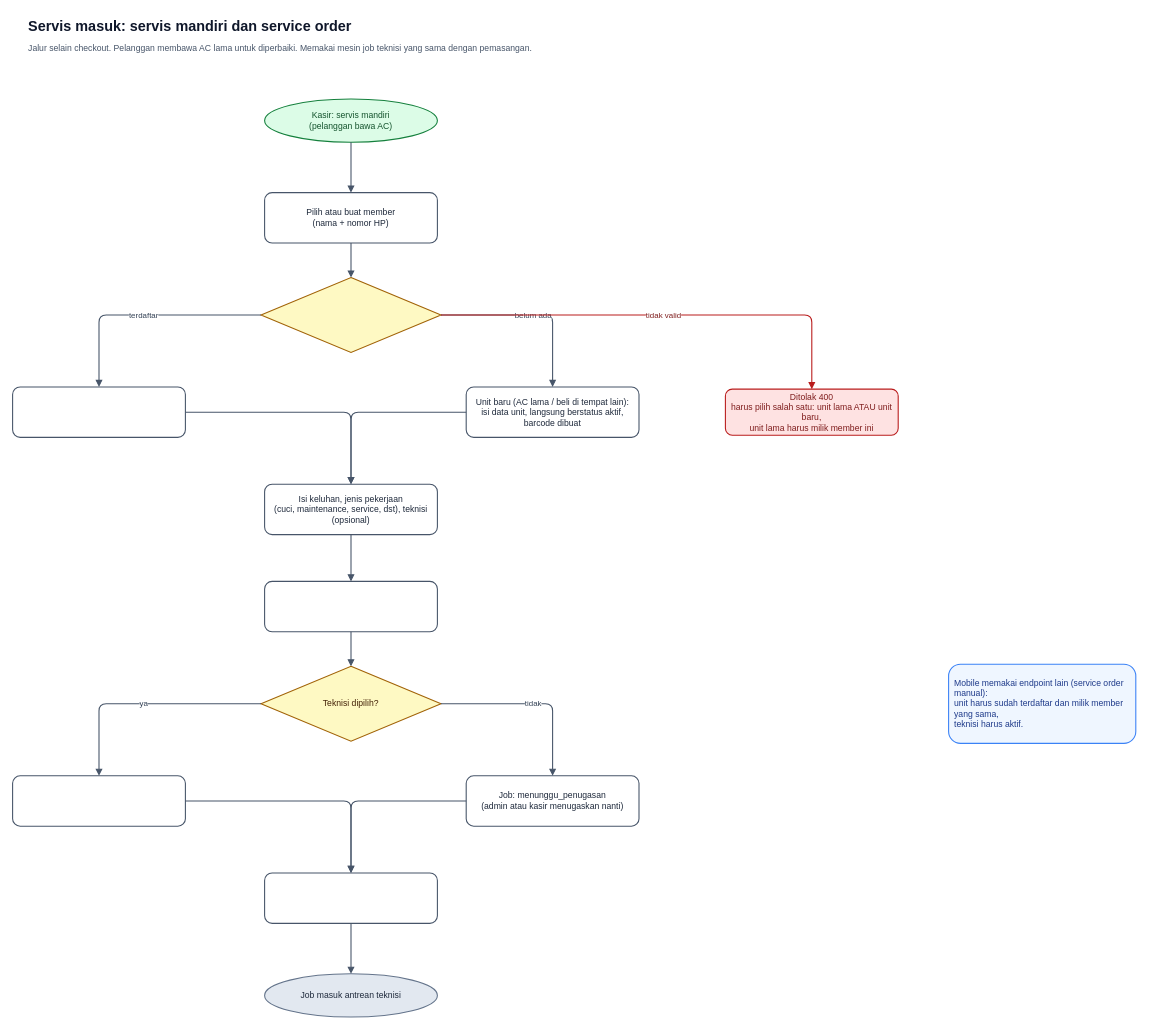
This 1149x1030 diagram has some shape labels left out. Here are the shapes that lost their labels. From the top down, the centre of each, then its label:
point (350, 315): Unit AC-nya?
point (99, 412): Unit sudah terdaftar: pilih unit milik member ini
point (351, 606): Buat service order + satu job per unit. Keluhan jadi temuan awal pertama
point (99, 800): Job: assigned teknisi dapat notifikasi
point (351, 898): Surat jalan bisa dicetak dari detail service order
